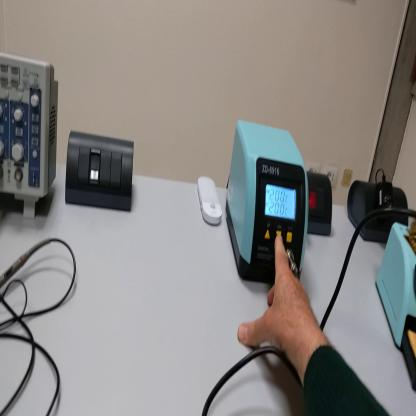hand: (237, 236, 316, 358)
oscilloscope: (2, 45, 59, 219)
oscilloscope probe tip: (2, 241, 52, 287)
socket: (348, 175, 409, 245), (308, 171, 334, 240)
welder base: (378, 214, 416, 390)
welder station: (225, 123, 309, 289)
